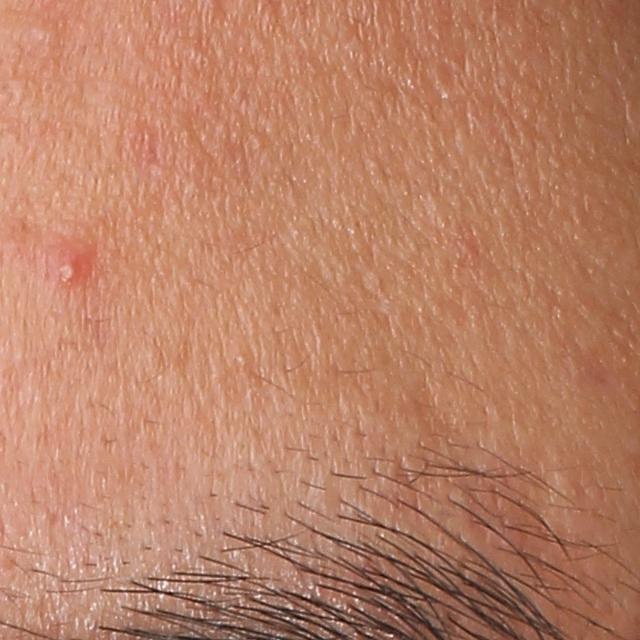pustule: (51, 244, 85, 289)
